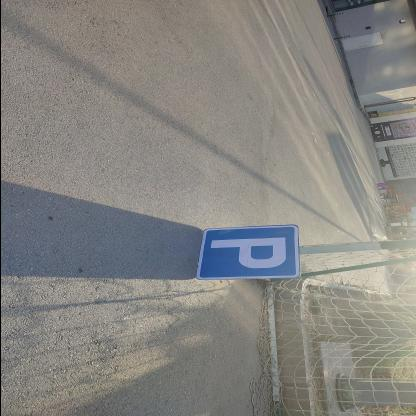Parking-Sign: (193, 226, 300, 283)
